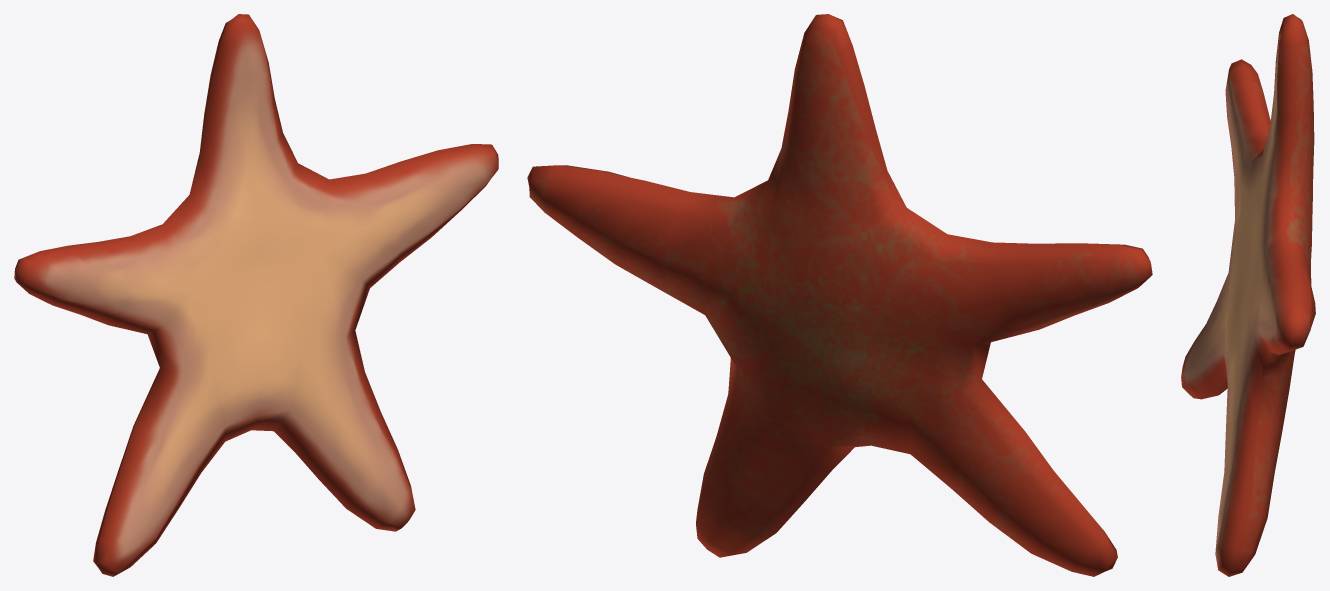
File: estrala animated.fbx
The picture shows the model from 3 angles, left to right: view 1: azimuth 30°, elevation 25°; view 2: azimuth 150°, elevation 25°; view 3: azimuth 270°, elevation 25°; orthographic projection. The views are drawn at different scales.
Parts seen in each view (by area): view 1: LP; view 2: LP; view 3: LP.
Part boxes in pixels (x1=…): LP: x1=14, y1=14, x2=498, y2=576; LP: x1=527, y1=14, x2=1152, y2=576; LP: x1=1181, y1=14, x2=1315, y2=576.
Bounding box in the file's own units: 20.68 × 20.2 × 4.9.
Materials: 1 (1 with a texture image).
